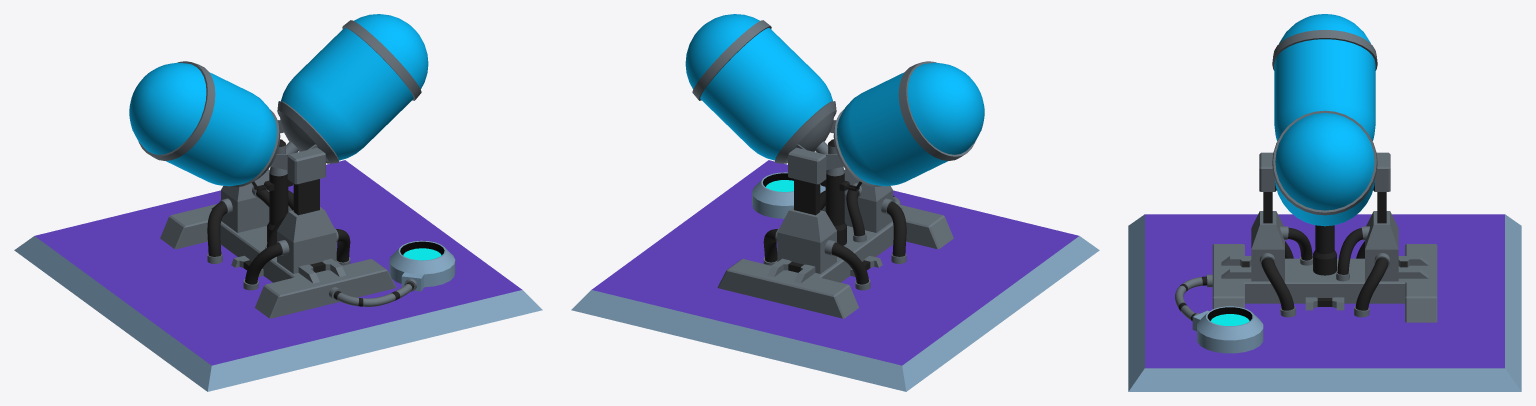
The model's file is Reservoir2.fbx.
3 renders of one model, left to right at view 1: azimuth 30°, elevation 25°; view 2: azimuth 150°, elevation 25°; view 3: azimuth 270°, elevation 25°, orthographic.
Parts seen in each view (by area): view 1: foundation_2, polySurface59, polySurface52, installation2, pCube169, alch_beacon, pCube170, pCube119, pCylinder128, pCylinder131, alch_base2, pCylinder130 (+2 smaller); view 2: foundation_2, polySurface59, polySurface52, installation2, pCube170, pCube169, pCube119, alch_beacon, pCylinder128, pCylinder130, pCylinder131, pCylinder133 (+2 smaller); view 3: foundation_2, polySurface52, polySurface59, installation2, alch_beacon, pCube170, pCube169, pCube119 (×2), pCylinder128, pCylinder129, pCylinder132, pCylinder134 (+6 smaller).
Boxes of the visible parts, <box> form: foundation_2: <box>14,160,542,391</box>; polySurface59: <box>277,14,428,163</box>; polySurface52: <box>129,61,280,186</box>; installation2: <box>160,204,396,318</box>; pCube169: <box>277,179,336,273</box>; alch_beacon: <box>389,240,455,291</box>; pCube170: <box>221,169,269,232</box>; pCube119: <box>270,144,325,184</box>; pCylinder128: <box>267,139,288,242</box>; pCylinder131: <box>207,198,232,263</box>; alch_base2: <box>329,278,417,306</box>; pCylinder130: <box>243,240,289,290</box>; foundation_2: <box>571,160,1099,391</box>; polySurface59: <box>685,14,836,163</box>; polySurface52: <box>833,61,984,186</box>; installation2: <box>717,204,953,318</box>; pCube170: <box>777,179,836,273</box>; pCube169: <box>844,169,892,232</box>; pCube119: <box>788,144,843,184</box>; alch_beacon: <box>752,172,825,218</box>; pCylinder128: <box>825,139,846,245</box>; pCylinder130: <box>881,198,906,263</box>; pCylinder131: <box>824,240,870,290</box>; pCylinder133: <box>846,183,866,242</box>; foundation_2: <box>1128,214,1521,391</box>; polySurface52: <box>1272,14,1377,141</box>; polySurface59: <box>1272,110,1377,226</box>; installation2: <box>1212,244,1437,322</box>; alch_beacon: <box>1192,306,1263,353</box>; pCube170: <box>1365,192,1398,281</box>; pCube169: <box>1251,192,1284,281</box>; pCube119 (×2): <box>1259,152,1390,191</box>; pCylinder128: <box>1313,225,1336,275</box>; pCylinder129: <box>1259,253,1295,317</box>; pCylinder132: <box>1354,253,1390,317</box>; pCylinder134: <box>1336,226,1369,281</box>.
Bounding box in the file's own units: 78.63 × 53.15 × 78.63.
